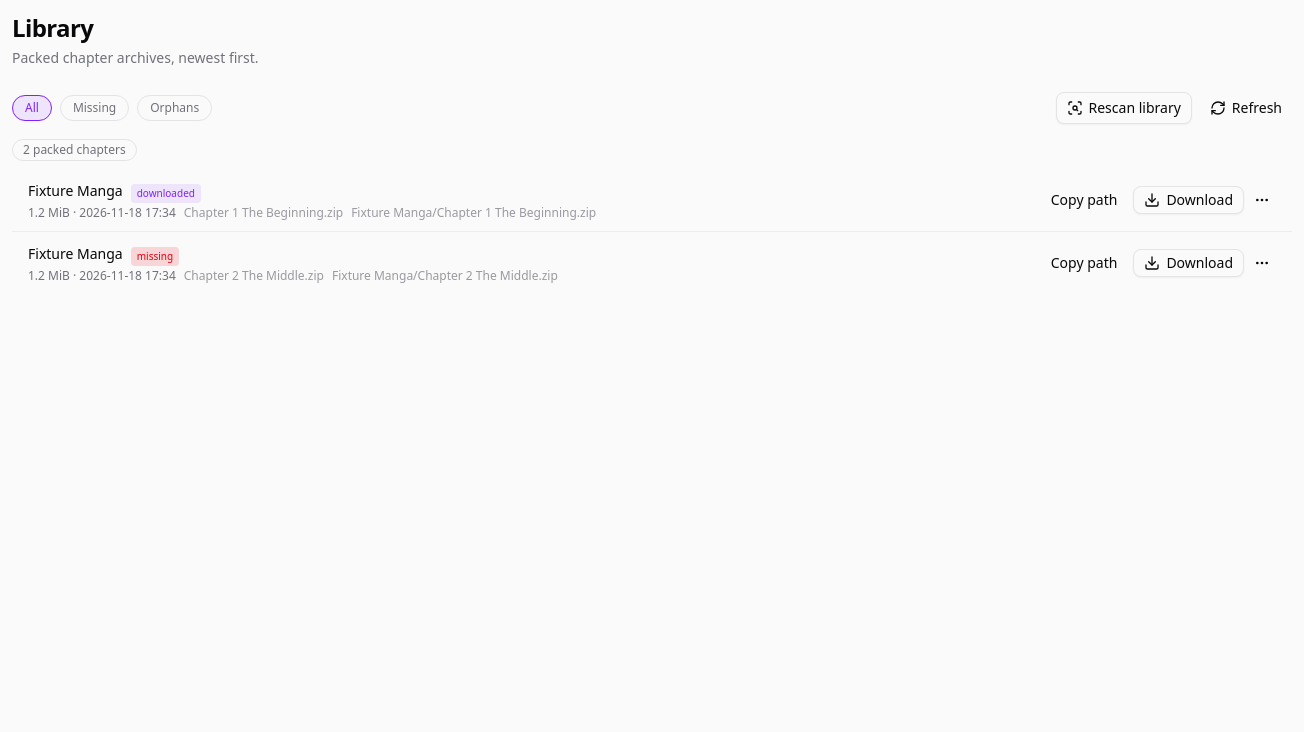
LibraryPage filter chips (URL-as-truth) › a chip click rewrites the URL and refetches with the filter
Expected: the text "Chapter 1 The Beginning.zip" is shown, 184,204 -> 343,221
Click the button with test id "library-filter-orphans": (175, 108) 137,95 -> 212,121
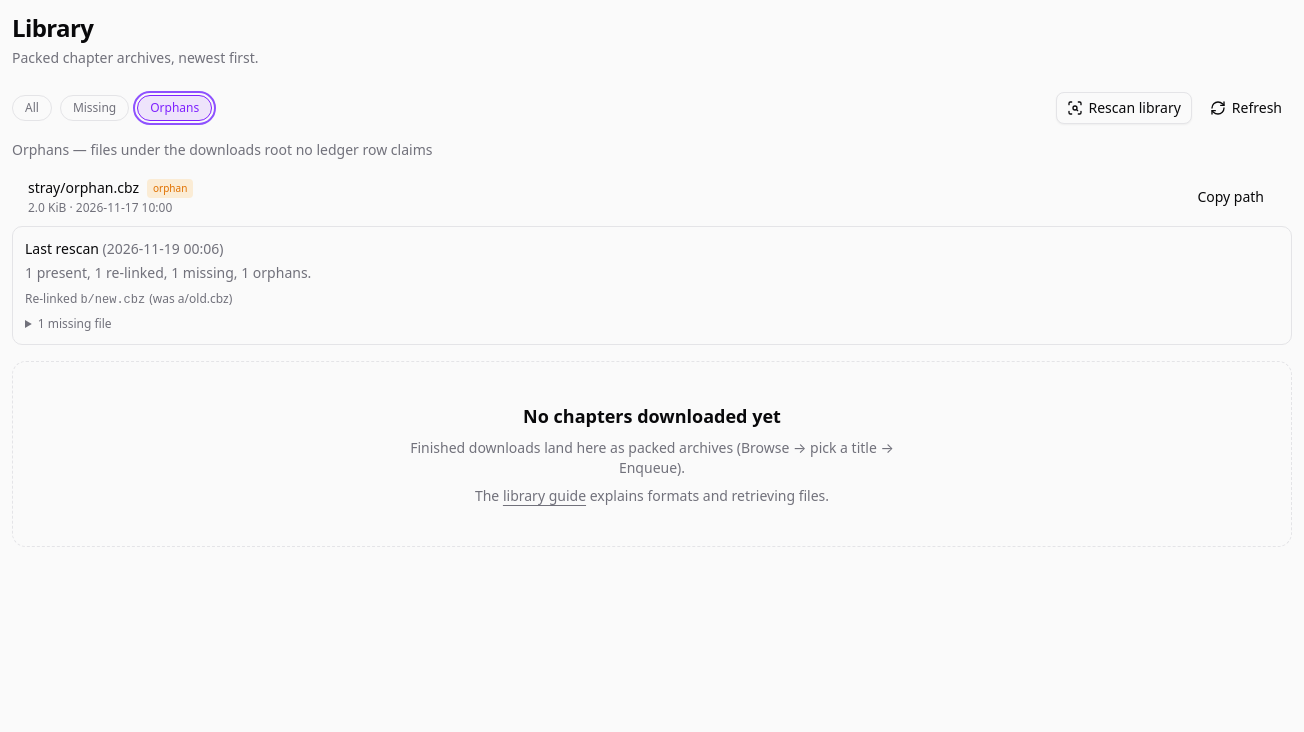
Expected: the text "stray/orphan.cbz" is shown, 28,178 -> 139,197
Expected: the text "orphan" is shown, 147,178 -> 193,198
Expected: the text "Chapter 1 The Beginning.zip" is gone
